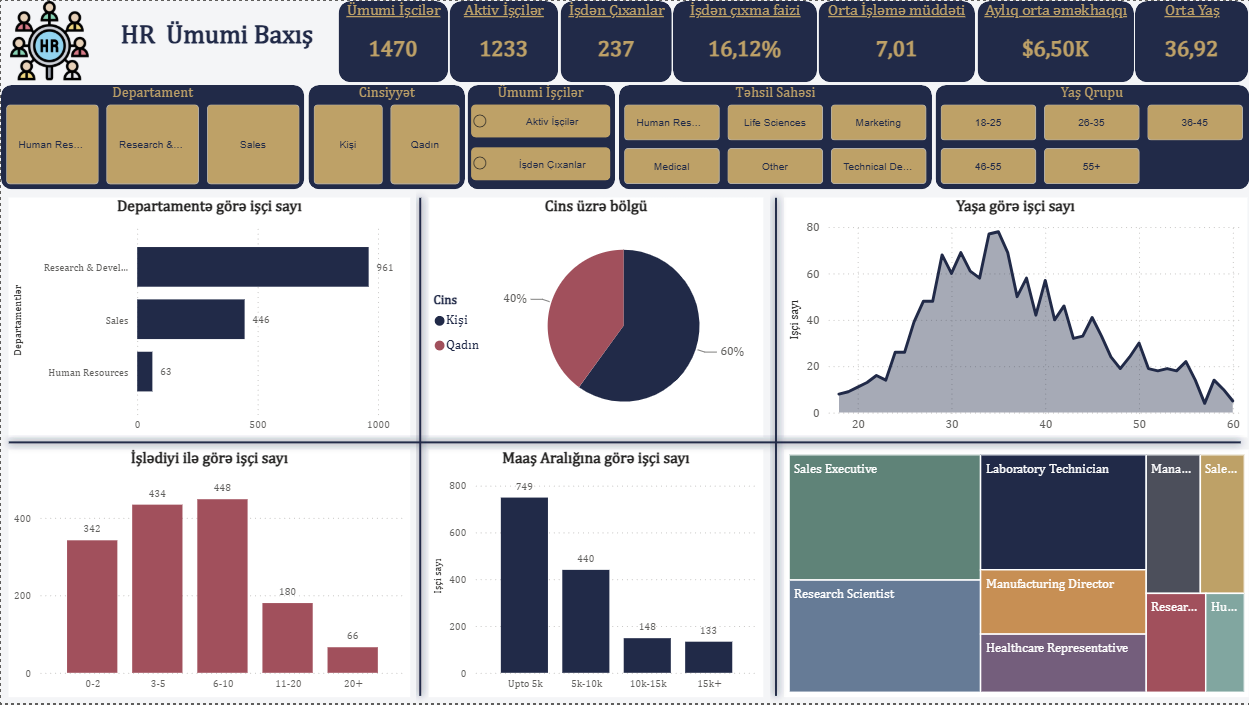

The dashboard page shown, as its layout file describes it:
{"tool":"powerbi","page":{"name":"Page 1","canvas":[1280,720],"ordinal":0},"visuals":[{"type":"shape","box":[1001.1,0,160.5,83.4],"z":0},{"type":"shape","box":[459.7,0,111.5,83.4],"z":1000},{"type":"shape","box":[0,86.1,311,107],"z":2000},{"type":"shape","box":[689.2,0,147.8,83.4],"z":3000},{"type":"shape","box":[573.1,0,114.3,83.4],"z":4000},{"type":"shape","box":[345.5,0,112.4,83.4],"z":5000},{"type":"shape","box":[1163.4,0,116.1,83.4],"z":6000},{"type":"shape","box":[314.7,86.1,160.5,107],"z":7000},{"type":"shape","box":[958.5,86.1,321.9,107],"z":8000},{"type":"shape","box":[633.9,86.1,321,107],"z":9000},{"type":"cardVisual","title":"Orta Yaş","fields":{"Data":["HR_Analytics.Average Age"]},"box":[1163.4,0,117,83.4],"z":10000},{"type":"cardVisual","title":"Aylıq orta əməkhaqqı","fields":{"Data":["HR_Analytics.Average Monthly Income"]},"box":[1001.1,0,160.5,83.4],"z":11000},{"type":"cardVisual","title":"İşdən çıxma faizi","fields":{"Data":["HR_Analytics.Attrition Rate %"]},"box":[689.2,0,147.8,83.4],"z":12000},{"type":"advancedSlicerVisual","fields":{"Values":["HR_Analytics.Department"]},"box":[0,86.1,311,107],"z":13000},{"type":"advancedSlicerVisual","fields":{"Values":["HR_Analytics.Gender"]},"box":[314.7,86.1,160.5,107],"z":14000},{"type":"advancedSlicerVisual","fields":{"Values":["HR_Analytics.AgeGroup"]},"box":[958.5,86.1,321,107],"z":15000},{"type":"advancedSlicerVisual","fields":{"Values":["HR_Analytics.EducationField"]},"box":[633.9,86.1,321,107],"z":16000},{"type":"cardVisual","title":"Aktiv İşçilər","fields":{"Data":["HR_Analytics.Active Employees"]},"box":[459.7,0,111.5,83.4],"z":17000},{"type":"cardVisual","title":"Ümumi İşcilər","fields":{"Data":["HR_Analytics.Total Employees"]},"box":[345.5,0,112.4,83.4],"z":18000},{"type":"cardVisual","title":"İşdən Çıxanlar","fields":{"Data":["HR_Analytics.Attrition Count"]},"box":[573.1,0,114.3,83.4],"z":19000},{"type":"clusteredBarChart","title":"Departamentə görə işçi sayı","fields":{"Category":["HR_Analytics.Department"],"Y":["Sum(HR_Analytics.EmployeeCount)"]},"box":[7.4,200.9,412,246.3],"z":20000},{"type":"image","box":[0,0,99,81],"z":21000},{"type":"textbox","box":[99.1,0,246.3,88],"z":22000},{"type":"pieChart","title":"Cins üzrə bölgü","fields":{"Category":["HR_Analytics.Gender"],"Y":["Sum(HR_Analytics.EmployeeCount)"]},"box":[438.9,200.9,343.5,246.3],"z":23000},{"type":"areaChart","title":"Yaşa görə işçi sayı","fields":{"Category":["HR_Analytics.Age"],"Y":["Sum(HR_Analytics.EmployeeCount)"]},"box":[803.7,200.9,475,246.3],"z":24000},{"type":"columnChart","title":"Maaş Aralığına görə işçi sayı","fields":{"Category":["HR_Analytics.SalarySlab"],"Y":["Sum(HR_Analytics.EmployeeCount)"]},"box":[438.9,460.2,343.5,253.7],"z":25000},{"type":"columnChart","title":"İşlədiyi ilə görə işçi sayı","fields":{"Category":["HR_Analytics.Years Group"],"Y":["Sum(HR_Analytics.EmployeeCount)"]},"box":[7.4,460.2,412,253.7],"z":26000},{"type":"treemap","fields":{"Group":["HR_Analytics.JobRole"],"Values":["Sum(HR_Analytics.EmployeeCount)"]},"box":[803.7,460.2,476.9,253.7],"z":27000},{"type":"shape","box":[838.8,0,160.5,83.4],"z":28000},{"type":"cardVisual","title":"Orta İşləmə müddəti","fields":{"Data":["HR_Analytics.Avg Tenure (Years)"]},"box":[838.8,0,160.5,83.4],"z":29000},{"type":"shape","box":[0,440.7,1279.5,25.4],"z":30000},{"type":"shape","box":[782.6,193.1,23.6,526.9],"z":31000},{"type":"shape","box":[419.8,193.1,19.9,526.9],"z":32000},{"type":"shape","box":[478.8,86.1,151.4,107],"z":33000},{"type":"listSlicer","title":"Ümumi İşçilər","fields":{"Values":["HR_Analytics.Attrition_AZ"]},"box":[477,86.1,153.2,107],"z":34000}]}

Visuals, with their boxes in screenshot pixels (x1, y1, x2, y2), scaled from the page's 1280x720 canvas onto the 1249x705 screenshot:
shape: 977,0,1133,82
shape: 449,0,557,82
shape: 0,84,303,189
shape: 673,0,817,82
shape: 559,0,671,82
shape: 337,0,447,82
shape: 1135,0,1248,82
shape: 307,84,464,189
shape: 935,84,1248,189
shape: 619,84,932,189
"Orta Yaş" cardVisual: 1135,0,1248,82
"Aylıq orta əməkhaqqı" cardVisual: 977,0,1133,82
"İşdən çıxma faizi" cardVisual: 673,0,817,82
advancedSlicerVisual - HR_Analytics.Department: 0,84,303,189
advancedSlicerVisual - HR_Analytics.Gender: 307,84,464,189
advancedSlicerVisual - HR_Analytics.AgeGroup: 935,84,1248,189
advancedSlicerVisual - HR_Analytics.EducationField: 619,84,932,189
"Aktiv İşçilər" cardVisual: 449,0,557,82
"Ümumi İşcilər" cardVisual: 337,0,447,82
"İşdən Çıxanlar" cardVisual: 559,0,671,82
"Departamentə görə işçi sayı" clusteredBarChart: 7,197,409,438
image: 0,0,97,79
textbox: 97,0,337,86
"Cins üzrə bölgü" pieChart: 428,197,763,438
"Yaşa görə işçi sayı" areaChart: 784,197,1248,438
"Maaş Aralığına görə işçi sayı" columnChart: 428,451,763,699
"İşlədiyi ilə görə işçi sayı" columnChart: 7,451,409,699
treemap - HR_Analytics.JobRole x Sum(HR_Analytics.EmployeeCount): 784,451,1248,699
shape: 818,0,975,82
"Orta İşləmə müddəti" cardVisual: 818,0,975,82
shape: 0,432,1248,456
shape: 764,189,787,704
shape: 410,189,429,704
shape: 467,84,615,189
"Ümumi İşçilər" listSlicer: 465,84,615,189
